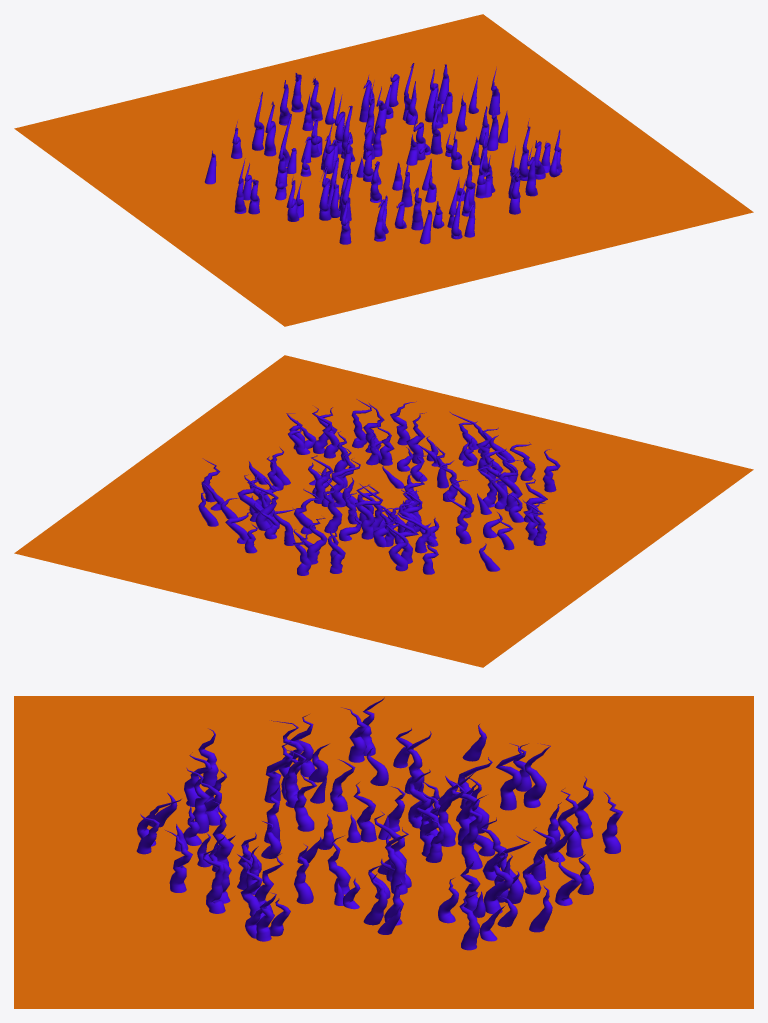
The model's file is tentacles.fbx.
3 views of the same model, one above another, from view 1: azimuth 30°, elevation 25°; view 2: azimuth 150°, elevation 25°; view 3: azimuth 270°, elevation 25° (orthographic). The views are drawn at different scales.
Parts seen in each view (by area): view 1: Plane, Tentacles; view 2: Plane, Tentacles; view 3: Plane, Tentacles.
Part boxes in pixels (<box>): Plane: <box>14,14,753,326</box>; Tentacles: <box>204,63,562,244</box>; Plane: <box>14,355,753,667</box>; Tentacles: <box>198,399,560,575</box>; Plane: <box>14,696,753,1008</box>; Tentacles: <box>136,697,623,950</box>.
Size of the model in its own units: 1220 by 173 by 1220.
